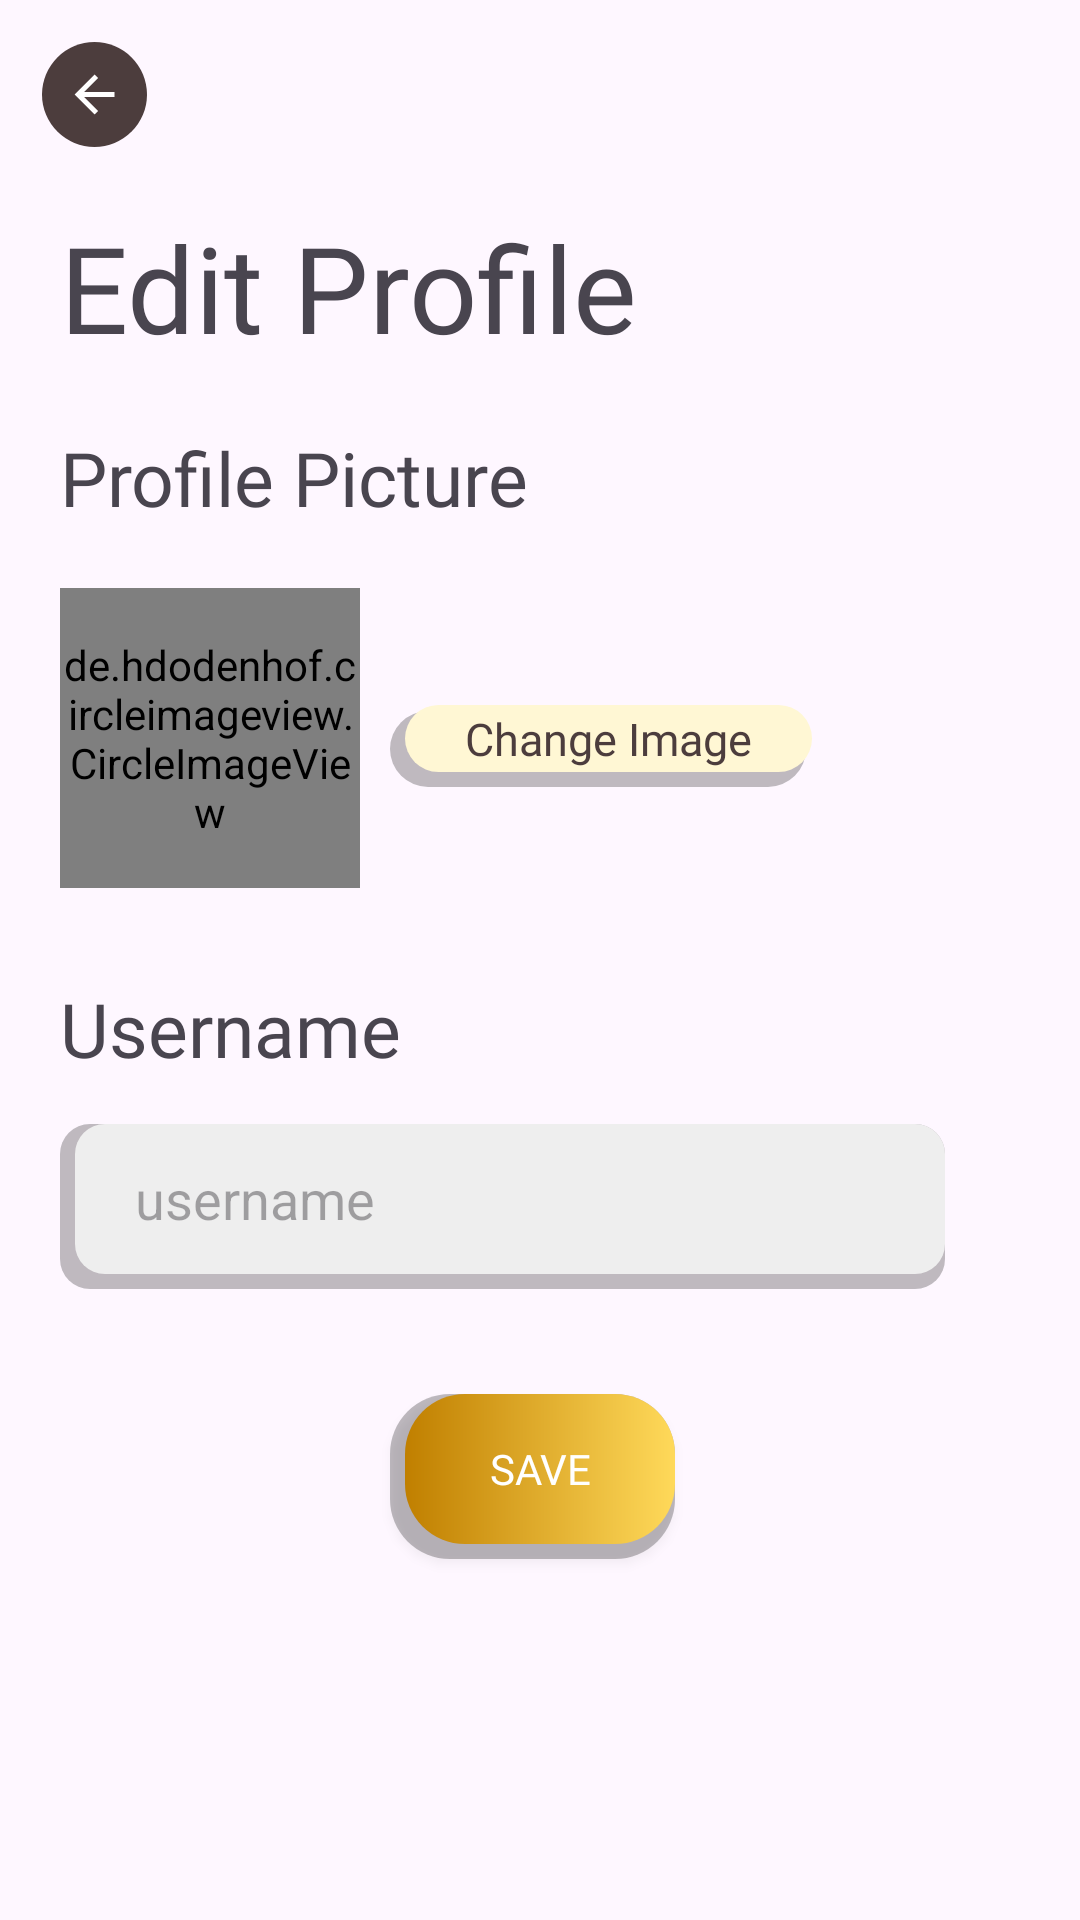

Point at icon controls on the screen. Image size 1080×1920, points as [x,y].
back: [94,94]
